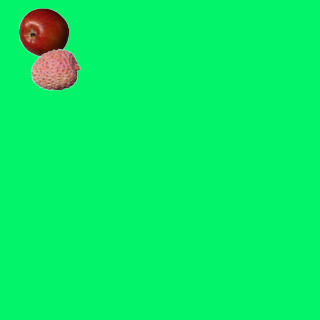Apple Braeburn: (18, 7, 68, 57)
Lychee: (30, 44, 80, 94)
